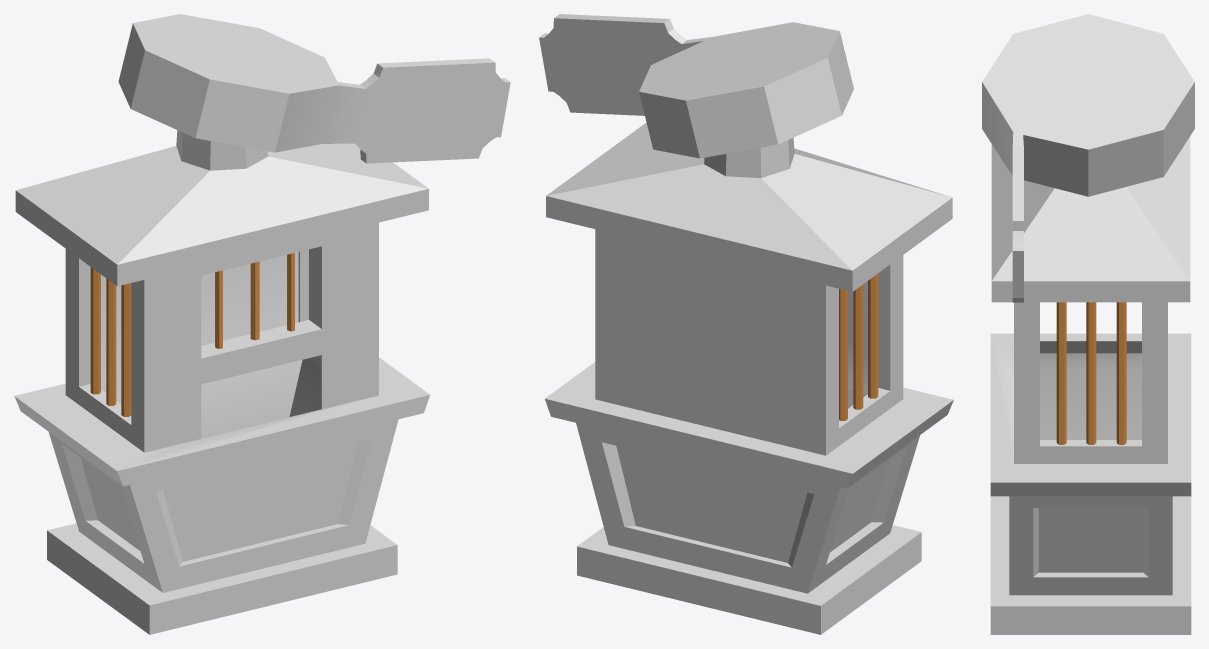
File: TicketStand.fbx
3 views of the same model, side by side, from view 1: azimuth 30°, elevation 25°; view 2: azimuth 150°, elevation 25°; view 3: azimuth 270°, elevation 25° (orthographic). The views are drawn at different scales.
Parts seen in each view (by area): view 1: TicketStand; view 2: TicketStand; view 3: TicketStand.
Part boxes in pixels (x1=…): TicketStand: x1=14, y1=14, x2=510, y2=634; TicketStand: x1=539, y1=14, x2=953, y2=634; TicketStand: x1=982, y1=14, x2=1194, y2=634.
Size of the model in its own units: 402 by 510 by 187.
